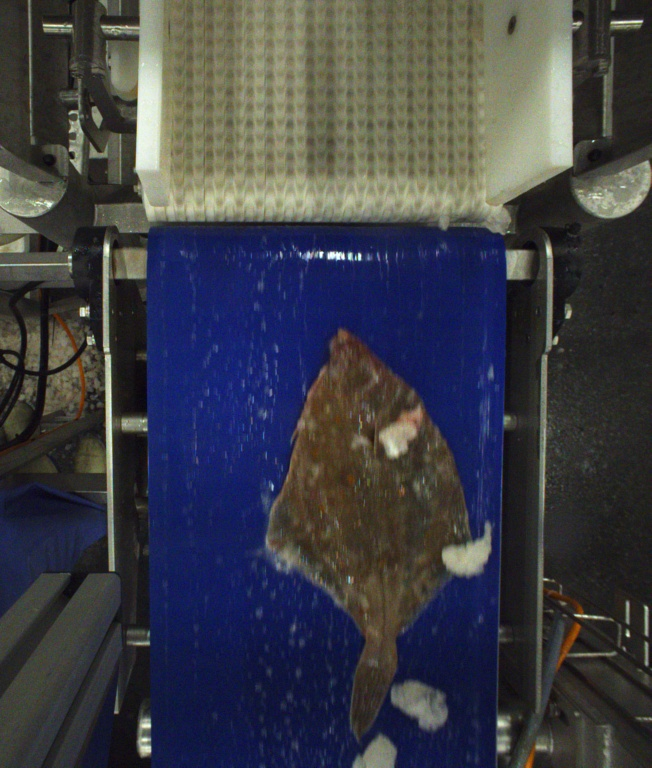PLE: (268, 330, 474, 739)
